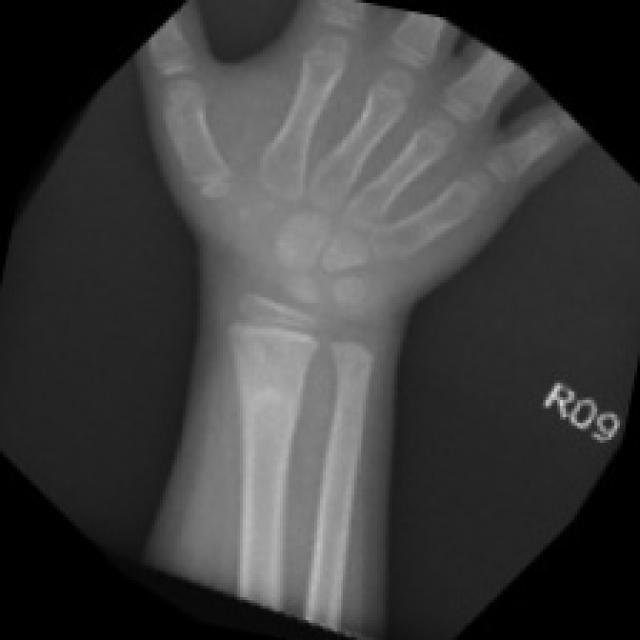fracture: (320, 301, 410, 403)
